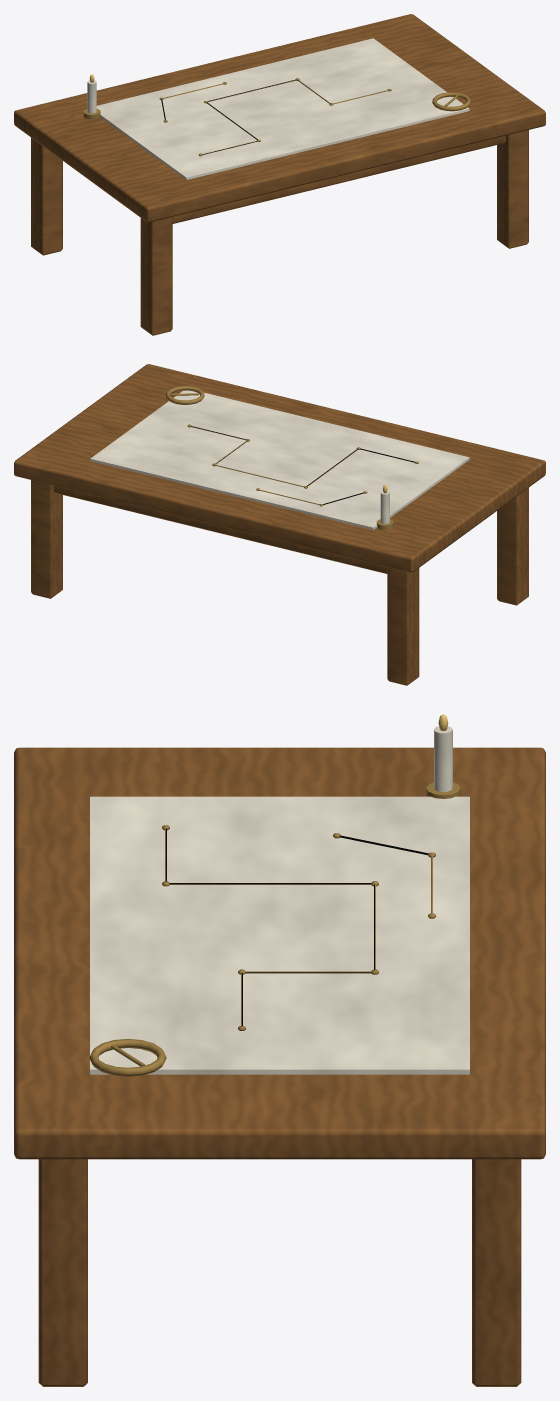
Rendered from Furn_MapTable.fbx.
The picture shows the model from 3 angles, top to bottom: view 1: azimuth 30°, elevation 25°; view 2: azimuth 150°, elevation 25°; view 3: azimuth 270°, elevation 25°; orthographic projection. The views are drawn at different scales.
Visible parts, largest first — view 1: Furn_MapTable_Mesh; view 2: Furn_MapTable_Mesh; view 3: Furn_MapTable_Mesh.
Boxes of the visible parts, x1=… form: Furn_MapTable_Mesh: x1=14, y1=14, x2=545, y2=335; Furn_MapTable_Mesh: x1=14, y1=364, x2=545, y2=685; Furn_MapTable_Mesh: x1=14, y1=714, x2=545, y2=1386.
Size of the model in its own units: 2.4 by 1.02 by 1.4.
4 materials, 4 textured.
